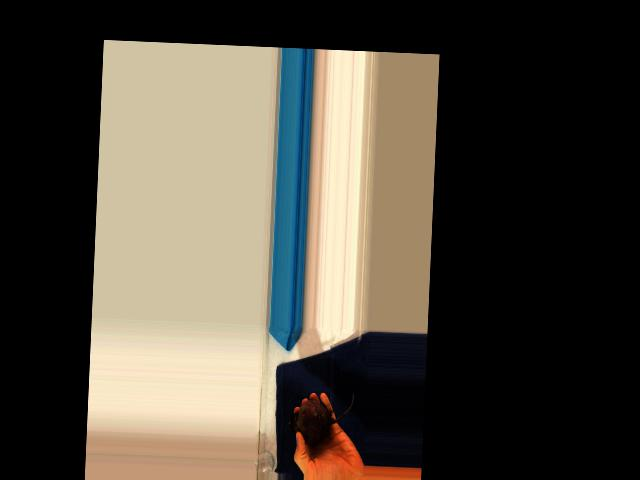beet: (288, 389, 354, 446)
